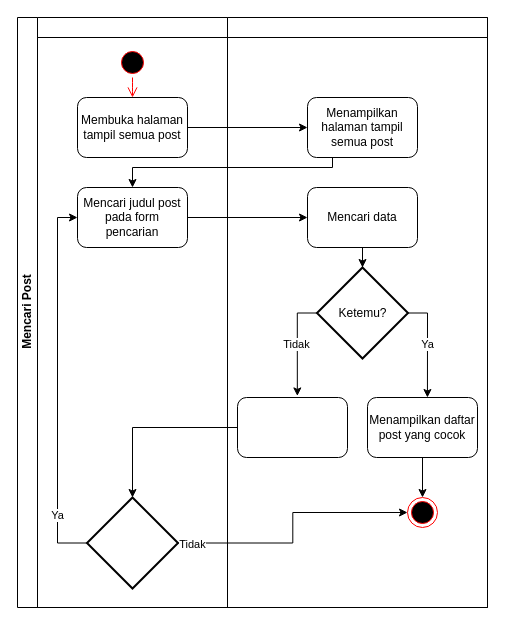
This 505x625 diagram has some shape labels left out. The shapes that lost their labels are listed below. From the top down, each one's box as (x1, y1, x2, y2) in pixels, then its label:
(36, 16, 228, 608): Admin
(226, 16, 488, 608): Sistem
(236, 396, 348, 458): Kembali ke hal. tampil semua post dengan pesan "tidak ditemukan"
(86, 496, 178, 589): Cari lagi?
